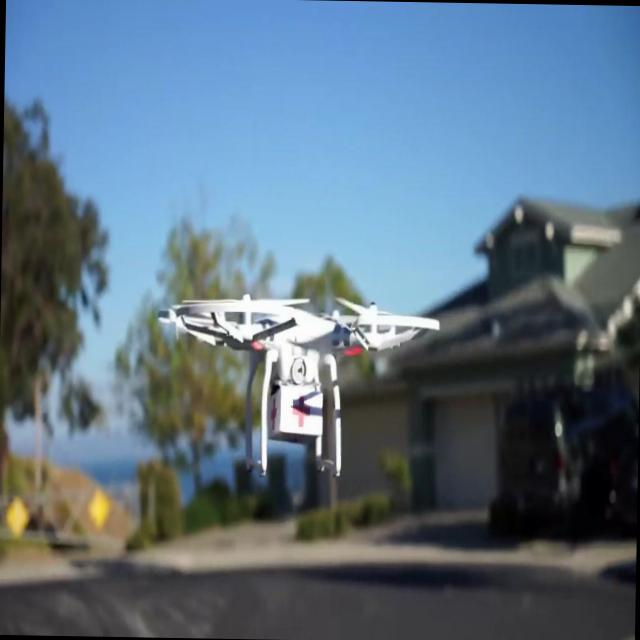drone: (153, 294, 440, 480)
